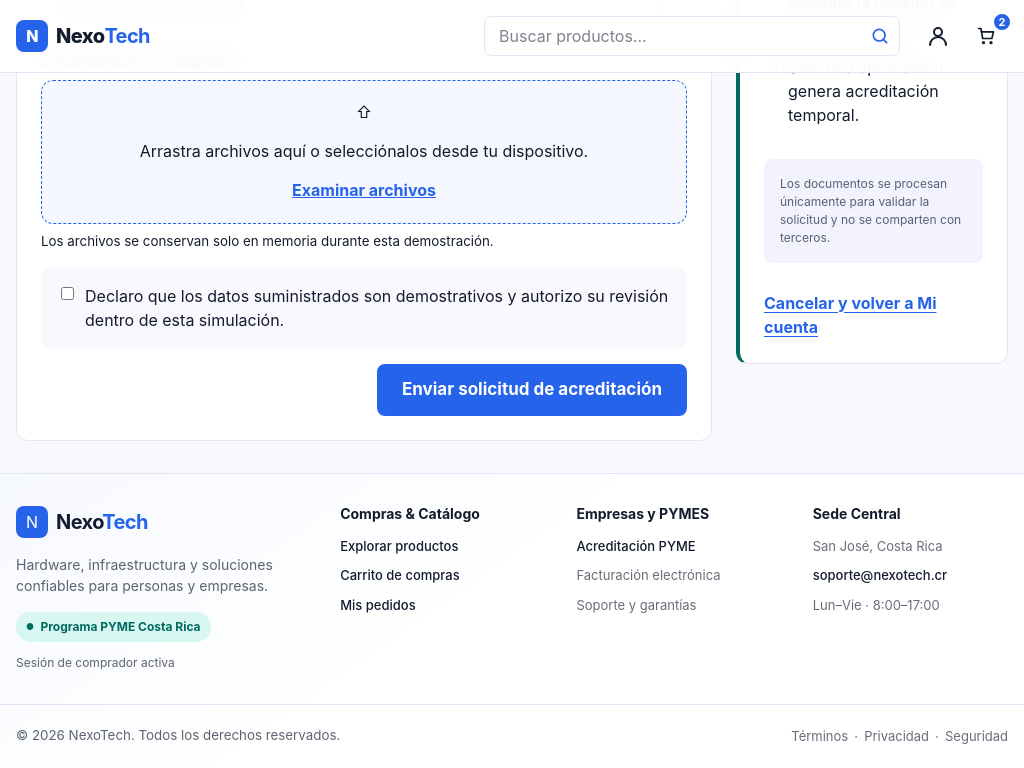
AccreditationRequestPage › presenta validación accesible para todos los datos obligatorios
(page scrolled)
Click the button "Enviar solicitud de acreditación". click: (532, 390)
box: [377, 364, 687, 416]
(page scrolled)
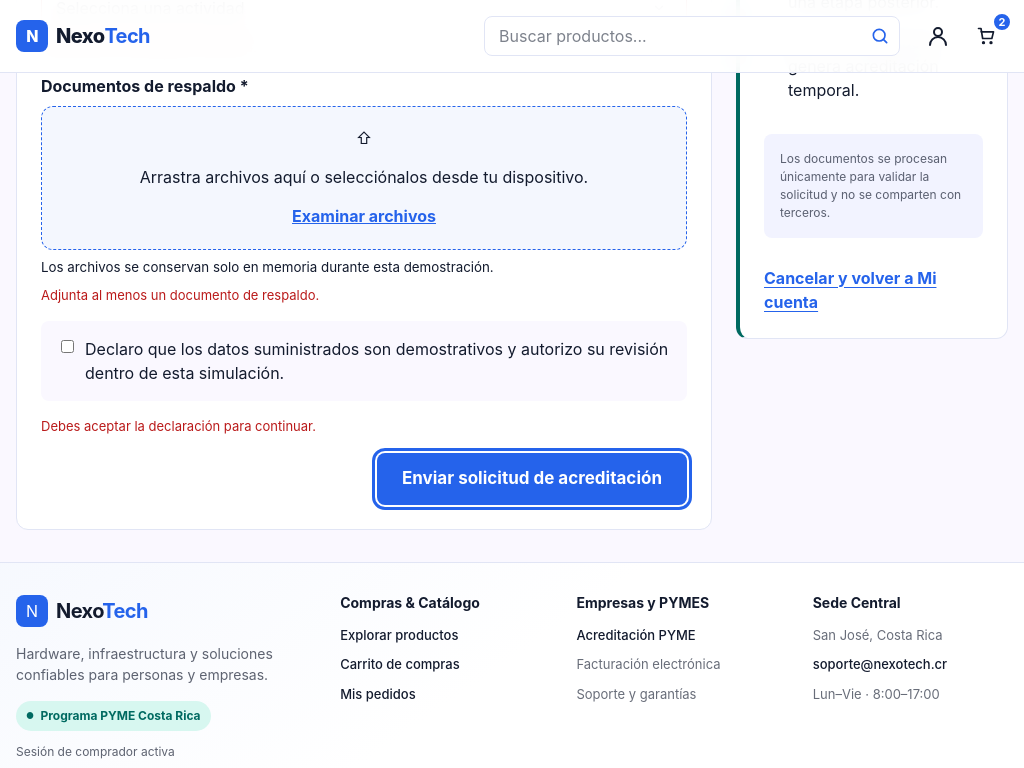
Expected: the text "Selecciona la actividad económica." is shown, [41, 39, 257, 55]
Now the text "Adjunta al menos un documento de respaldo." is shown, box [41, 287, 319, 303]
Now the text "Debes aceptar la declaración para continuar." is shown, box [41, 418, 316, 434]
